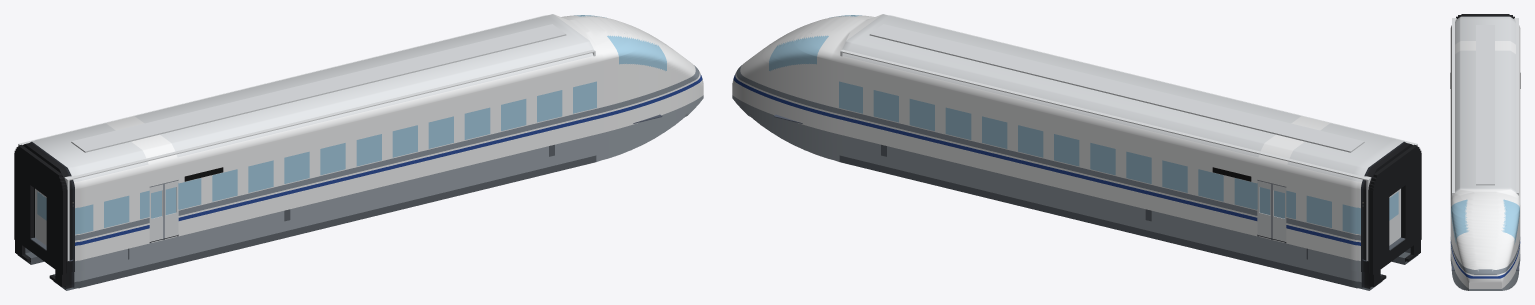
File: transrapid_front.obj
The picture shows the model from 3 angles, left to right: view 1: azimuth 30°, elevation 25°; view 2: azimuth 150°, elevation 25°; view 3: azimuth 270°, elevation 25°; orthographic projection. The views are drawn at different scales.
Visible parts, largest first — view 1: SHELL, SHELL_roof, SHELL_diaphragm, SHELL_ceiling, EXTERNAL_DOOR_3_CG_DR1_TOGGLE_TL_-0.54_X, EXTERNAL_DOOR_4_CG_DR1_TOGGLE_TL_0.54_X, CONNECTING_DOOR_1_CG_CR_TOGGLE_TL_0.98_Z; view 2: SHELL, SHELL_roof, SHELL_diaphragm, SHELL_ceiling, EXTERNAL_DOOR_6_CG_DL1_TOGGLE_TL_-0.54_X, EXTERNAL_DOOR_7_CG_DL1_TOGGLE_TL_0.54_X, CONNECTING_DOOR_1_CG_CR_TOGGLE_TL_0.98_Z; view 3: SHELL, SHELL_roof, SHELL_ceiling.
Part boxes in pixels (box(x1,y1,x2,y2)): SHELL: box(18, 14, 703, 290); SHELL_roof: box(71, 24, 566, 152); SHELL_diaphragm: box(14, 144, 66, 286); SHELL_ceiling: box(20, 15, 593, 180); EXTERNAL_DOOR_3_CG_DR1_TOGGLE_TL_-0.54_X: box(149, 184, 164, 241); EXTERNAL_DOOR_4_CG_DR1_TOGGLE_TL_0.54_X: box(164, 181, 178, 238); CONNECTING_DOOR_1_CG_CR_TOGGLE_TL_0.98_Z: box(36, 189, 46, 245); SHELL: box(732, 14, 1417, 290); SHELL_roof: box(869, 24, 1364, 152); SHELL_diaphragm: box(1369, 144, 1421, 286); SHELL_ceiling: box(842, 15, 1415, 180); EXTERNAL_DOOR_6_CG_DL1_TOGGLE_TL_-0.54_X: box(1271, 184, 1286, 241); EXTERNAL_DOOR_7_CG_DL1_TOGGLE_TL_0.54_X: box(1257, 181, 1271, 238); CONNECTING_DOOR_1_CG_CR_TOGGLE_TL_0.98_Z: box(1389, 189, 1399, 245); SHELL: box(1450, 14, 1520, 290); SHELL_roof: box(1476, 25, 1494, 185); SHELL_ceiling: box(1452, 18, 1518, 192).
Size of the model in its own units: 27.16 by 4.68 by 3.72.
Materials: 1 (1 with a texture image).
